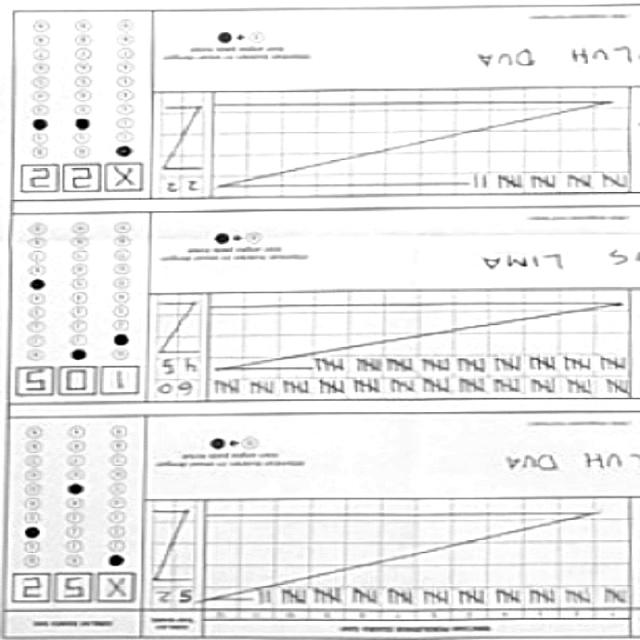Suara: (22, 162, 149, 195), (15, 366, 142, 397), (9, 573, 138, 603)
